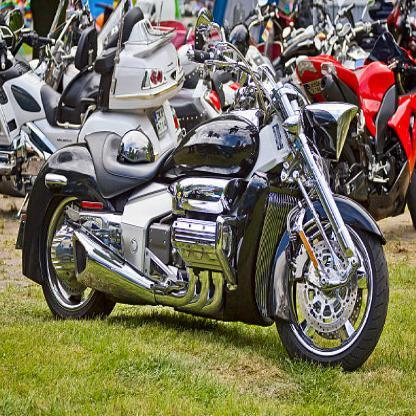Motorcycle: (38, 40, 390, 382)
